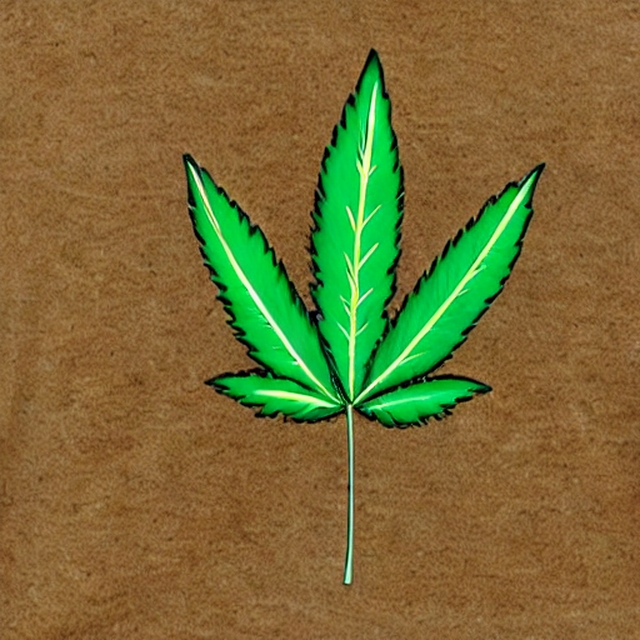Marijuana Leaf: (180, 45, 547, 585)
